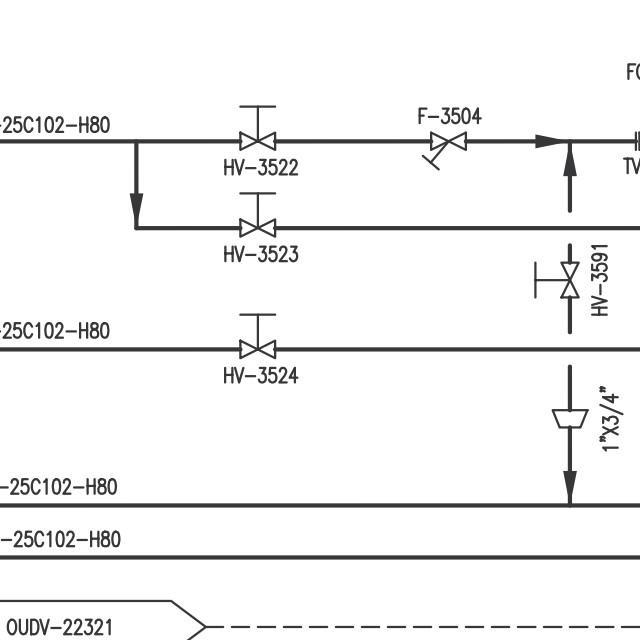HVWT: (232, 188, 286, 241), (525, 256, 582, 302), (233, 100, 281, 151), (235, 308, 280, 362)
S: (422, 129, 471, 170)
SP: (548, 406, 589, 431)
